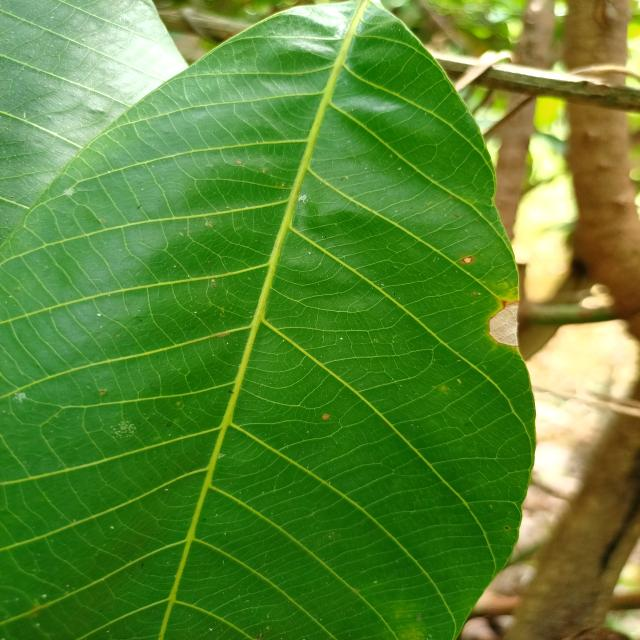Colletotrichum: (463, 257, 473, 264)
Leaf-Blight: (488, 301, 522, 346)
